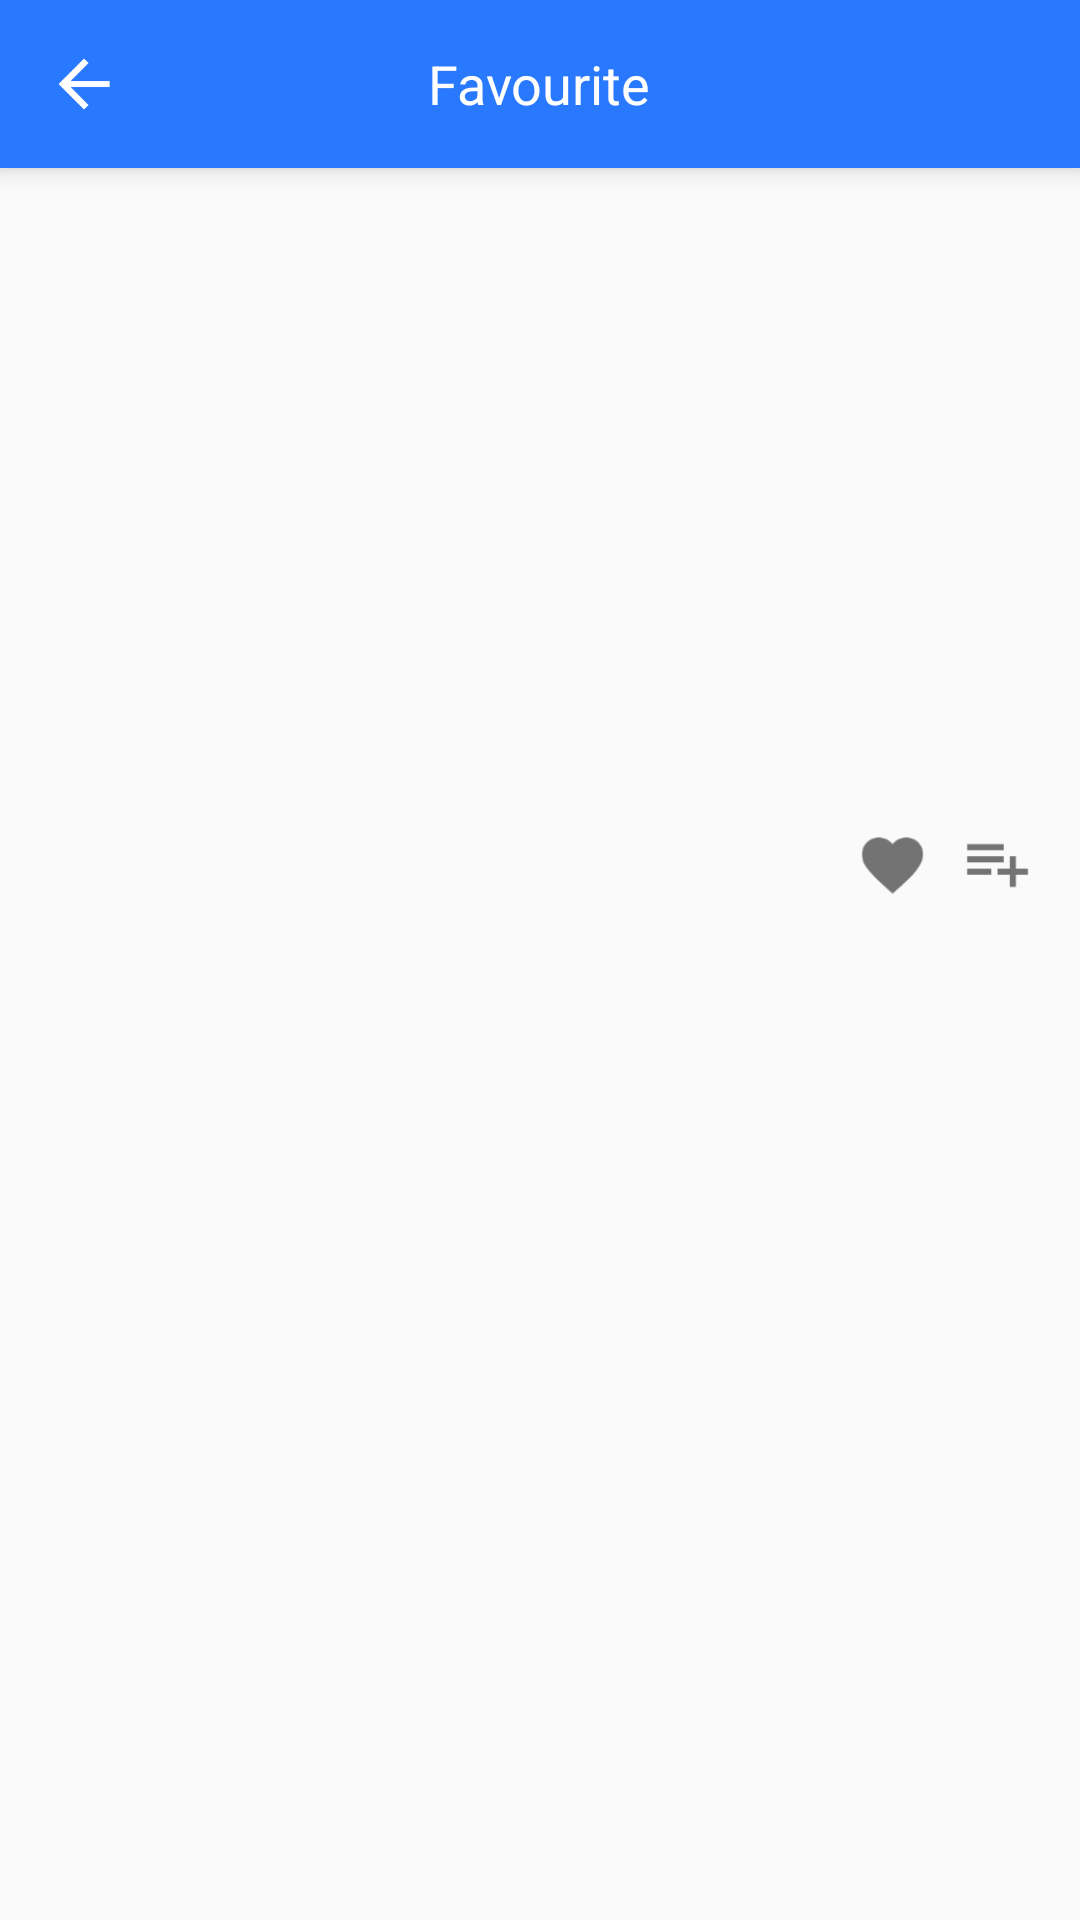

Icons on this 1080×1920 Android screen, each with its box as Rect(x1, y1, x2, y2):
arrow back: Rect(59, 58, 110, 110)
favorite unmarkerd: Rect(862, 837, 923, 894)
playlist unmarked: Rect(967, 843, 1028, 888)
